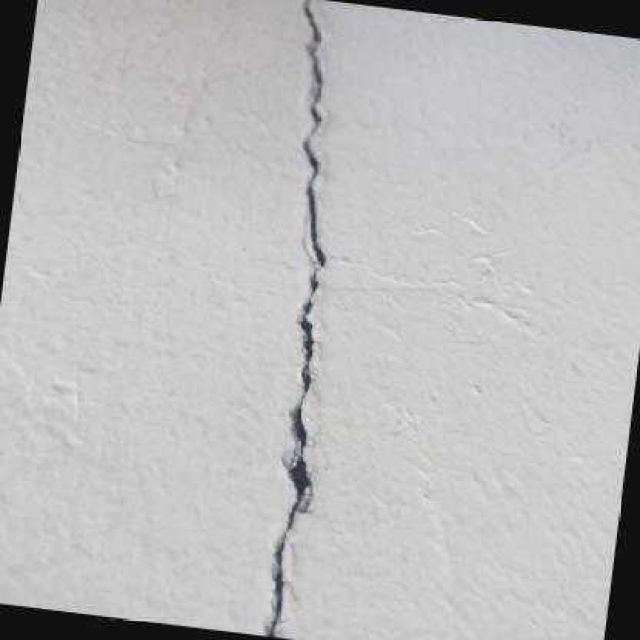D00: (265, 0, 326, 637)
